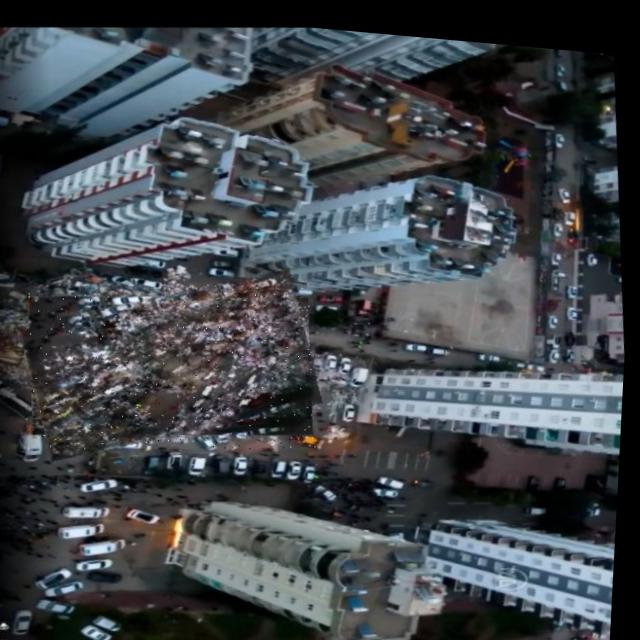Rubble: (16, 255, 328, 468)
